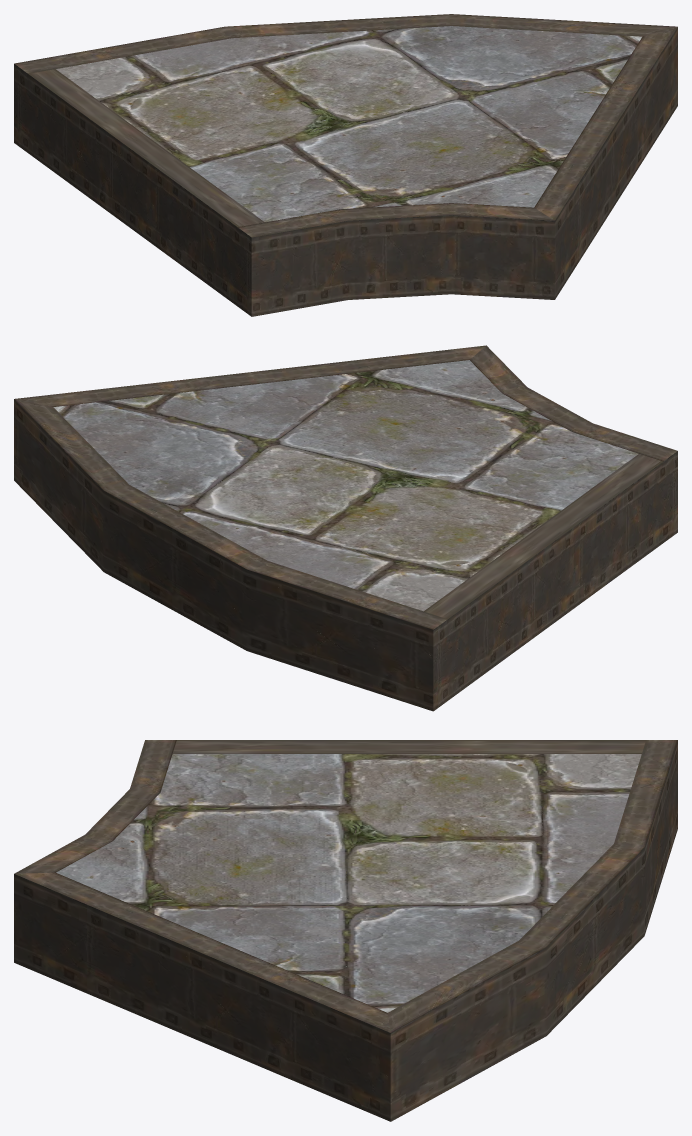
3 renders of one model, top to bottom at view 1: azimuth 30°, elevation 25°; view 2: azimuth 150°, elevation 25°; view 3: azimuth 270°, elevation 25°, orthographic. The views are drawn at different scales.
Parts seen in each view (by area): view 1: SM_Dowdun_Spiral_Staircase_Tower_08_LOD0; view 2: SM_Dowdun_Spiral_Staircase_Tower_08_LOD0; view 3: SM_Dowdun_Spiral_Staircase_Tower_08_LOD0.
Boxes of the visible parts, left/top/right/bottom form: SM_Dowdun_Spiral_Staircase_Tower_08_LOD0: left=14, top=14, right=677, bottom=316; SM_Dowdun_Spiral_Staircase_Tower_08_LOD0: left=14, top=345, right=677, bottom=711; SM_Dowdun_Spiral_Staircase_Tower_08_LOD0: left=14, top=740, right=677, bottom=1121.
Size of the model in its own units: 3.54 by 0.5 by 3.39.
2 materials, 2 textured.
